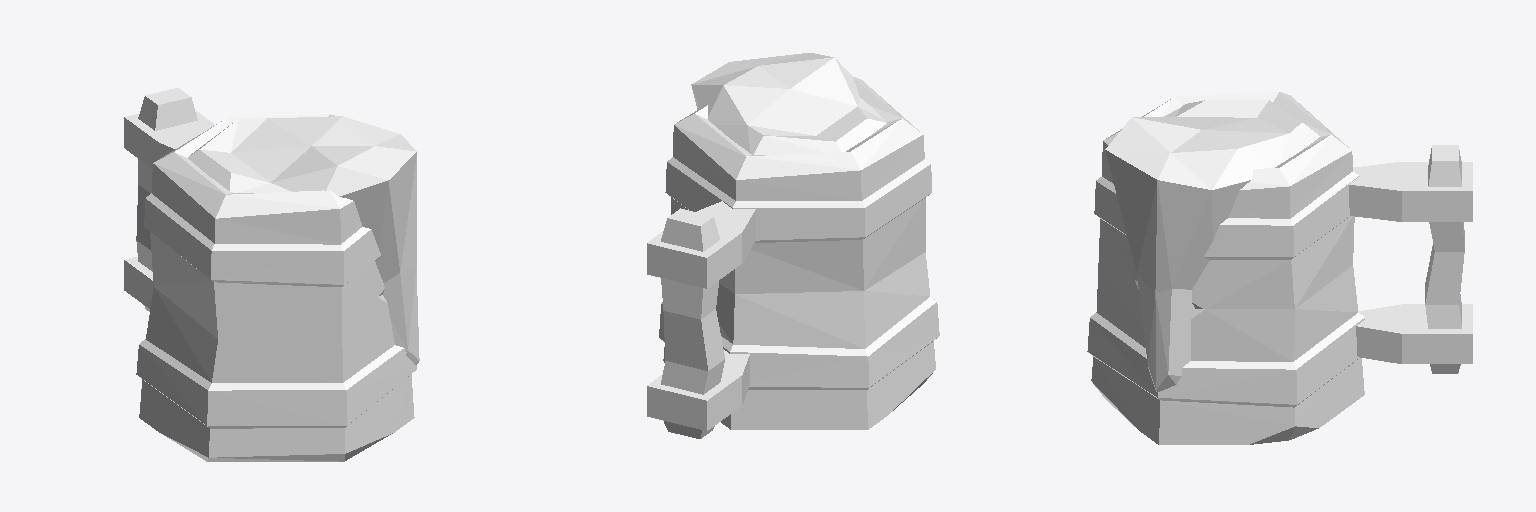
File: Brick.obj
3 views of the same model, side by side, from view 1: azimuth 30°, elevation 25°; view 2: azimuth 150°, elevation 25°; view 3: azimuth 270°, elevation 25° (orthographic).
Parts seen in each view (by area): view 1: SM_Prop_Beer_Mug_02_Mesh; view 2: SM_Prop_Beer_Mug_02_Mesh; view 3: SM_Prop_Beer_Mug_02_Mesh.
Part boxes in pixels (x1,y1,x2,y2): SM_Prop_Beer_Mug_02_Mesh: (124, 88, 419, 461); SM_Prop_Beer_Mug_02_Mesh: (647, 53, 939, 438); SM_Prop_Beer_Mug_02_Mesh: (1087, 92, 1472, 444).
Size of the model in its own units: 1.16 by 1.42 by 1.74.